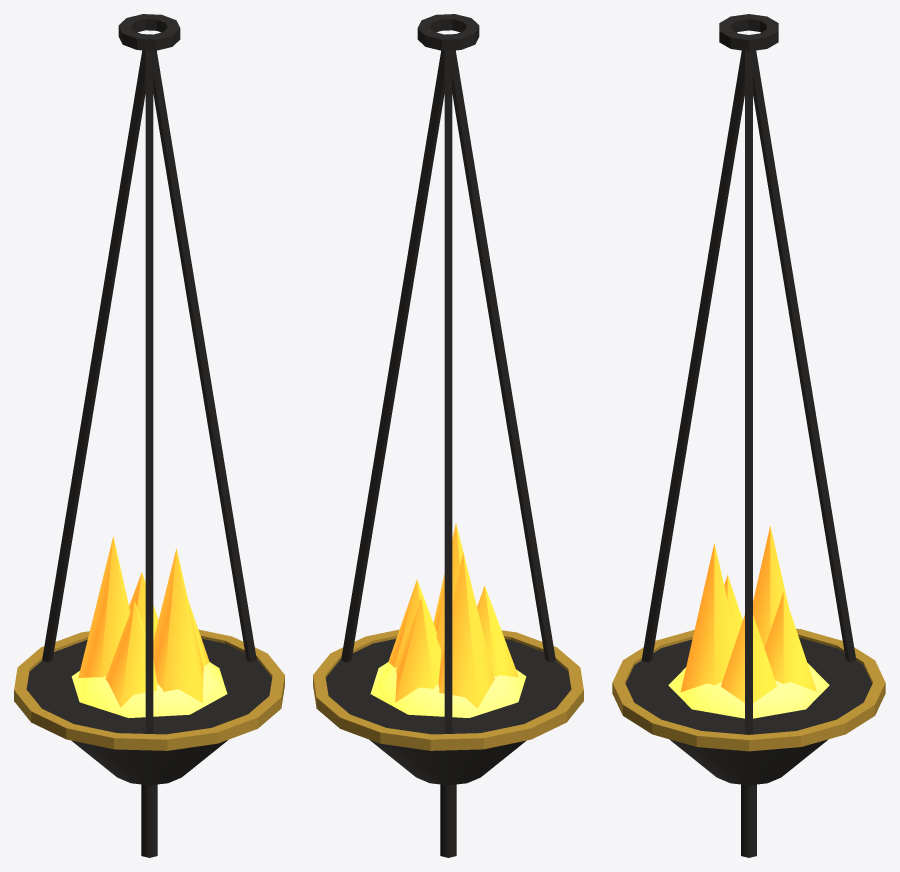
Rendered from jt_hanging_brazier.glb.
3 renders of one model, left to right at view 1: azimuth 30°, elevation 25°; view 2: azimuth 150°, elevation 25°; view 3: azimuth 270°, elevation 25°, orthographic.
Visible parts, largest first — view 1: jt_hanging_brazier; view 2: jt_hanging_brazier; view 3: jt_hanging_brazier.
Boxes of the visible parts, left/top/right/bottom form: jt_hanging_brazier: left=14, top=14, right=284, bottom=857; jt_hanging_brazier: left=313, top=14, right=583, bottom=857; jt_hanging_brazier: left=612, top=14, right=885, bottom=857.
Size of the model in its own units: 0.88 by 2.94 by 0.88.
